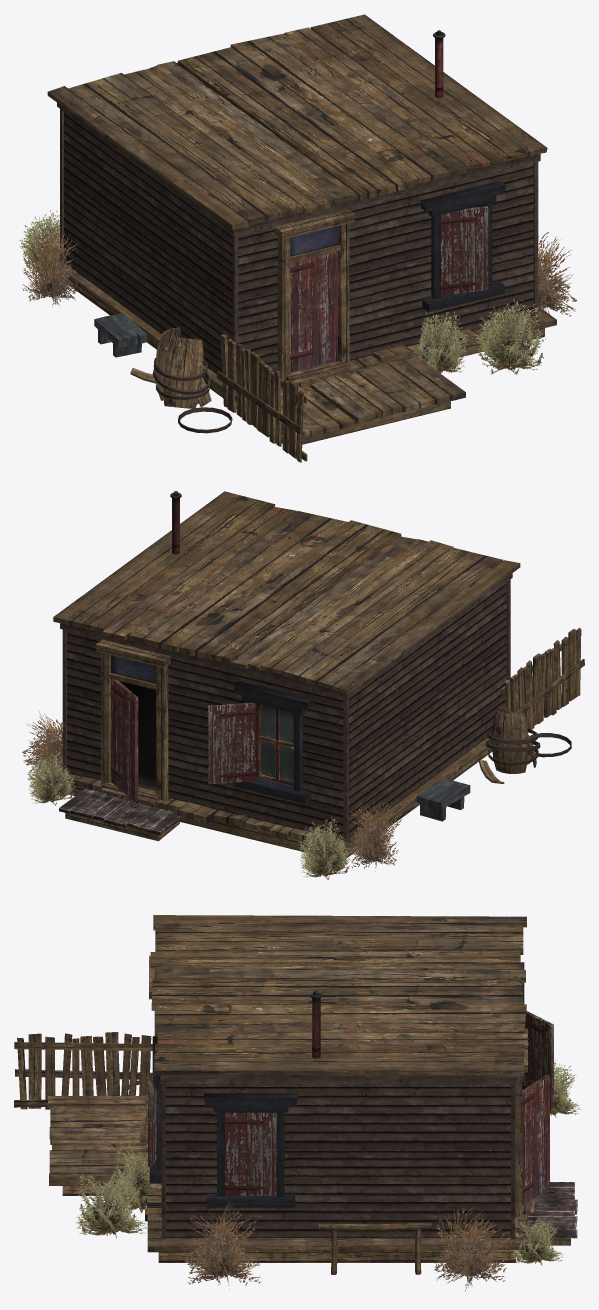
The model's file is town house.fbx.
The picture shows the model from 3 angles, top to bottom: view 1: azimuth 30°, elevation 25°; view 2: azimuth 150°, elevation 25°; view 3: azimuth 270°, elevation 25°; orthographic projection. The views are drawn at different scales.
Parts seen in each view (by area): view 1: House 1; view 2: House 1, Object001; view 3: House 1, Object001.
Part boxes in pixels (x1,y1,x2,y2): House 1: (19, 14, 576, 462); House 1: (22, 491, 584, 879); Object001: (111, 679, 138, 801); House 1: (14, 915, 580, 1291); Object001: (522, 1075, 549, 1205).
Size of the model in its own units: 338 by 195 by 385.
